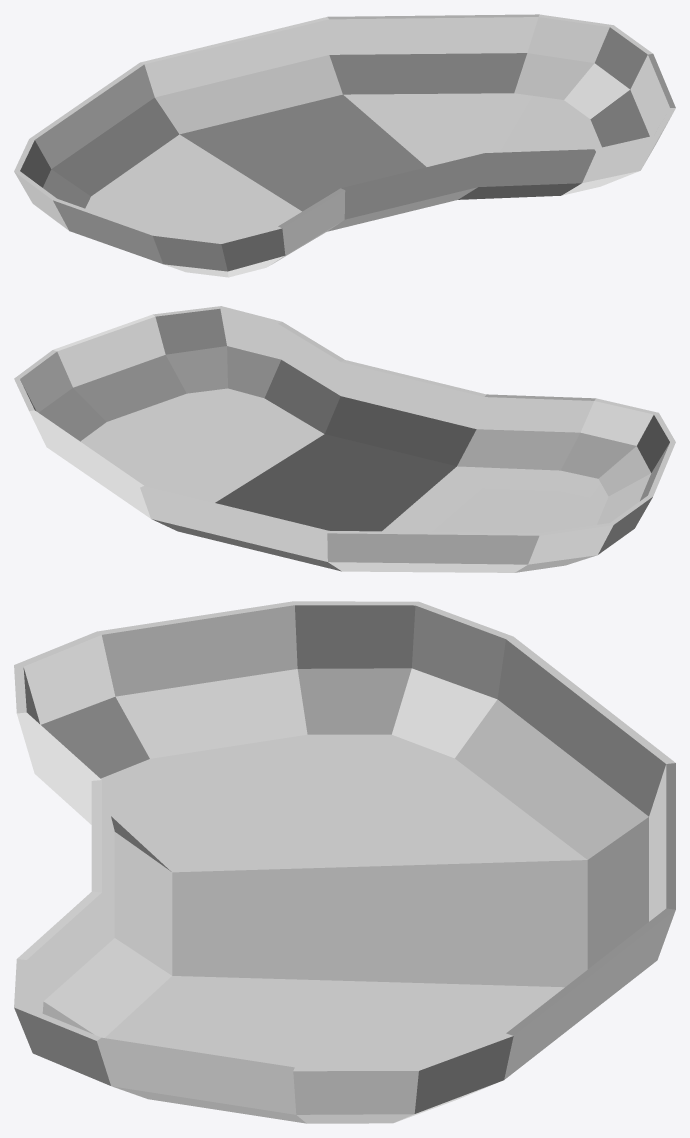
The model's file is dish.fbx.
3 views of the same model, one above another, from view 1: azimuth 30°, elevation 25°; view 2: azimuth 150°, elevation 25°; view 3: azimuth 270°, elevation 25° (orthographic). The views are drawn at different scales.
Parts seen in each view (by area): view 1: Dish; view 2: Dish; view 3: Dish.
Boxes of the visible parts, x1=… form: Dish: x1=14, y1=14, x2=675, y2=277; Dish: x1=14, y1=306, x2=675, y2=572; Dish: x1=14, y1=601, x2=675, y2=1123.
Bounding box in the file's own units: 21.37 × 2.05 × 12.73.
Materials: 1 (1 with a texture image).
